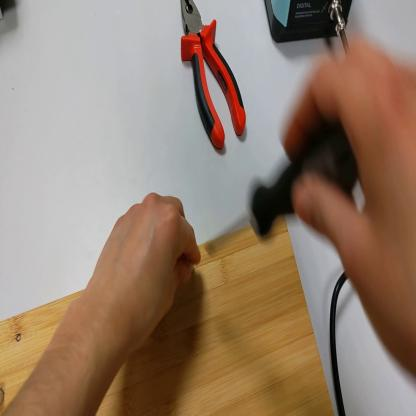hand: (282, 43, 416, 374), (89, 190, 202, 352)
pliers: (178, 1, 248, 152)
screwdriver-: (207, 115, 365, 250)
welder station: (264, 1, 353, 46)
working area: (2, 214, 336, 416)
